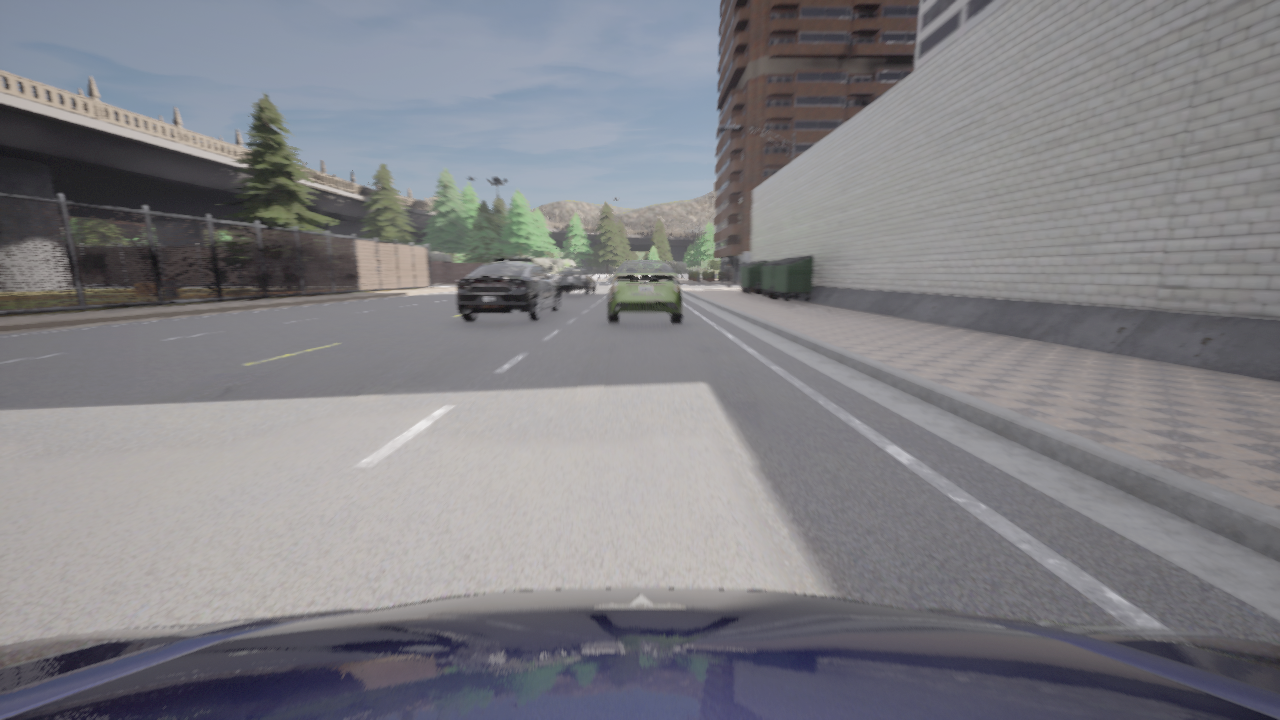cyclist: (0, 588, 1279, 719), (457, 258, 559, 321), (608, 261, 682, 323), (557, 268, 595, 295)
pedestrian: (725, 265, 732, 287)
